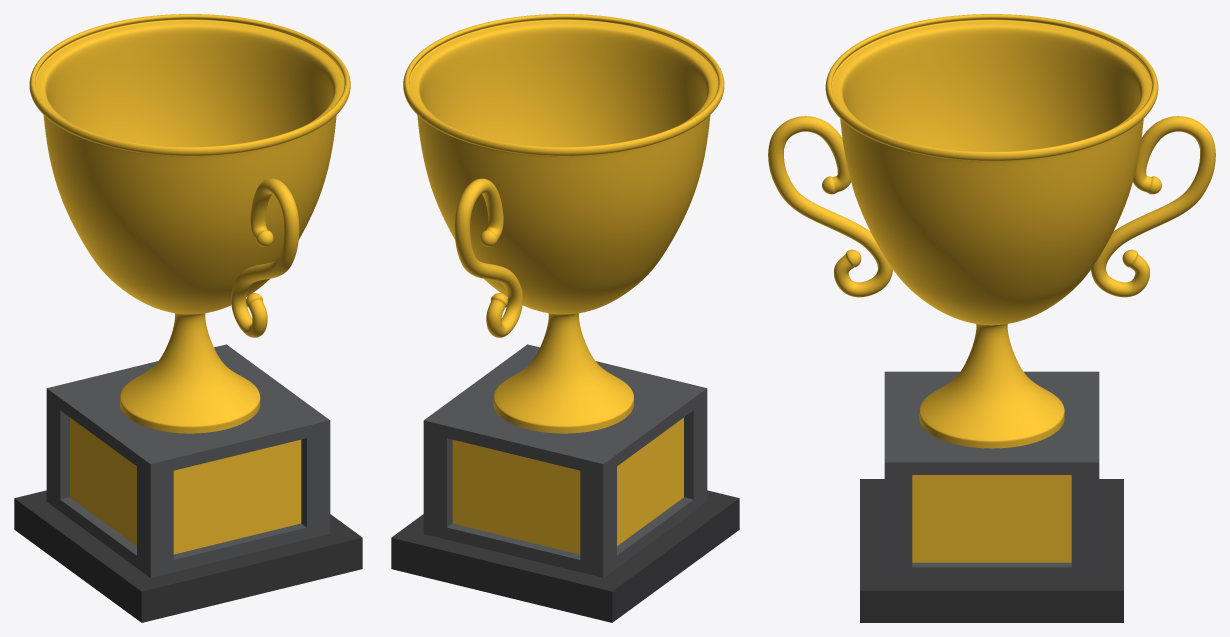
Rendered from cup.fbx.
The picture shows the model from 3 angles, left to right: view 1: azimuth 30°, elevation 25°; view 2: azimuth 150°, elevation 25°; view 3: azimuth 270°, elevation 25°; orthographic projection. The views are drawn at different scales.
Parts seen in each view (by area): view 1: Circle, Cube.001; view 2: Circle, Cube.001; view 3: Circle, Cube.001.
Boxes of the visible parts, x1,y1,x2,y2 form: Circle: (29,14,350,433); Cube.001: (14,344,362,622); Circle: (403,14,724,433); Cube.001: (391,344,739,622); Circle: (768,14,1215,448); Cube.001: (860,371,1123,622).
Size of the model in its own units: 81.87 by 132 by 110.
